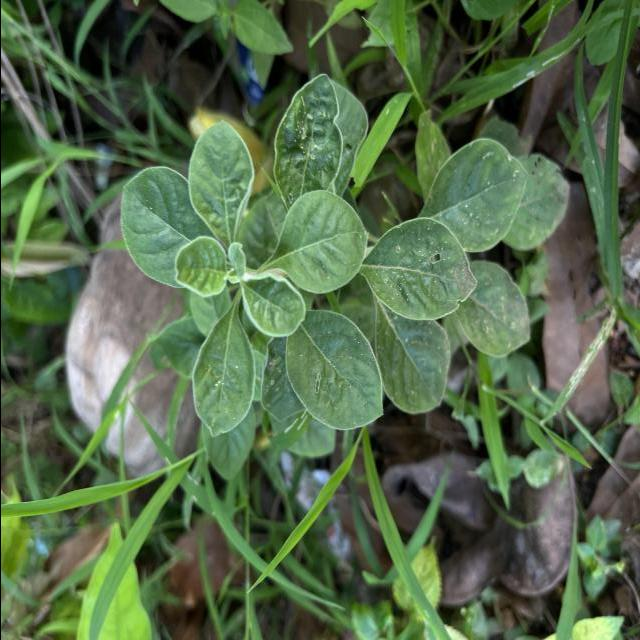Aerva lanata: (280, 308, 386, 434), (357, 216, 478, 324)
